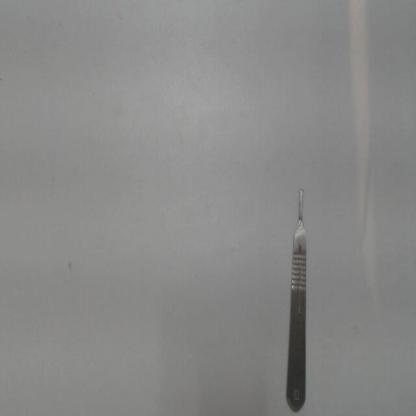No.3 BP Handle: (279, 186, 314, 415)
